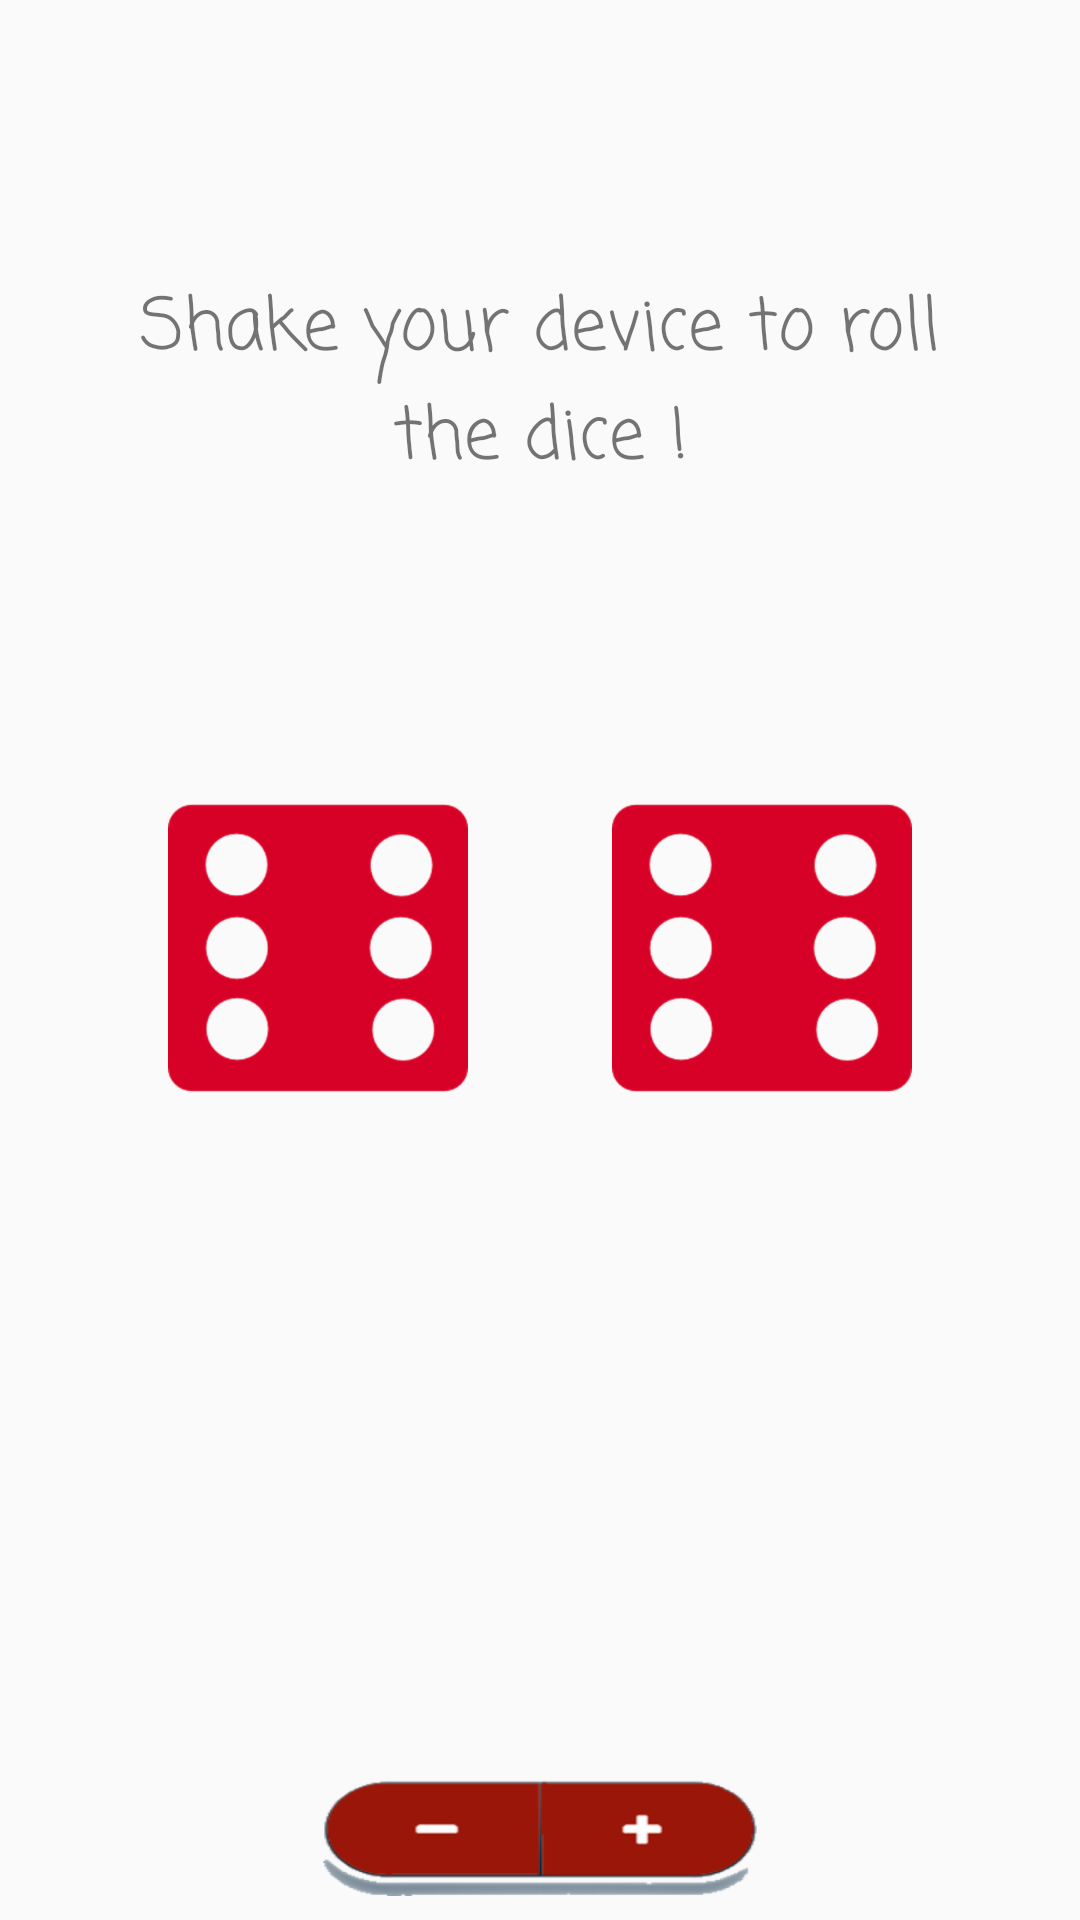

Icon click points for this 1080w x 1920h phone screenshot, format (x=x, y=y):
dice: (x=318, y=948), (x=762, y=948)
